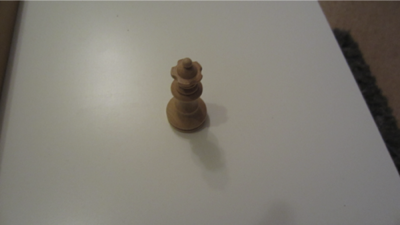white-queen: (165, 56, 209, 135)
